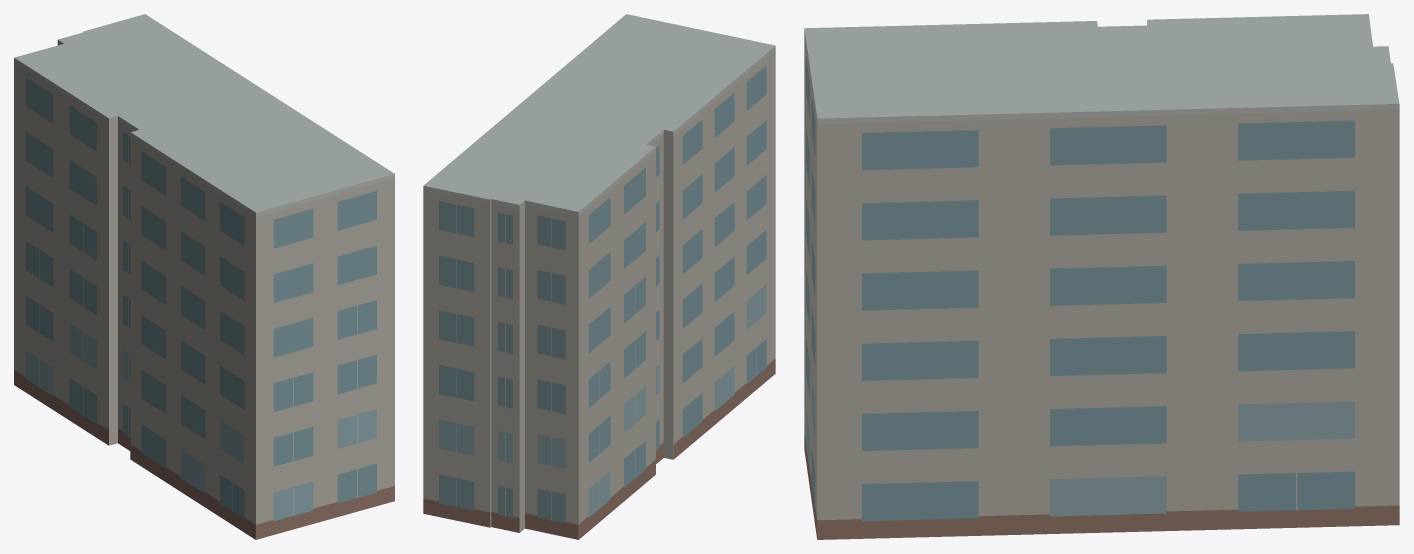
Rendered from survey-upis-32752545.glb.
The picture shows the model from 3 angles, left to right: view 1: azimuth 30°, elevation 25°; view 2: azimuth 150°, elevation 25°; view 3: azimuth 270°, elevation 25°; orthographic projection. The views are drawn at different scales.
Visible parts, largest first — view 1: survey-upis-32752545.tmp; view 2: survey-upis-32752545.tmp; view 3: survey-upis-32752545.tmp.
Boxes of the visible parts, left/top/right/bottom form: survey-upis-32752545.tmp: left=14, top=14, right=394, bottom=539; survey-upis-32752545.tmp: left=423, top=14, right=775, bottom=539; survey-upis-32752545.tmp: left=804, top=14, right=1399, bottom=539.
Bounding box in the file's own units: 9.75 × 18.3 × 23.44.
